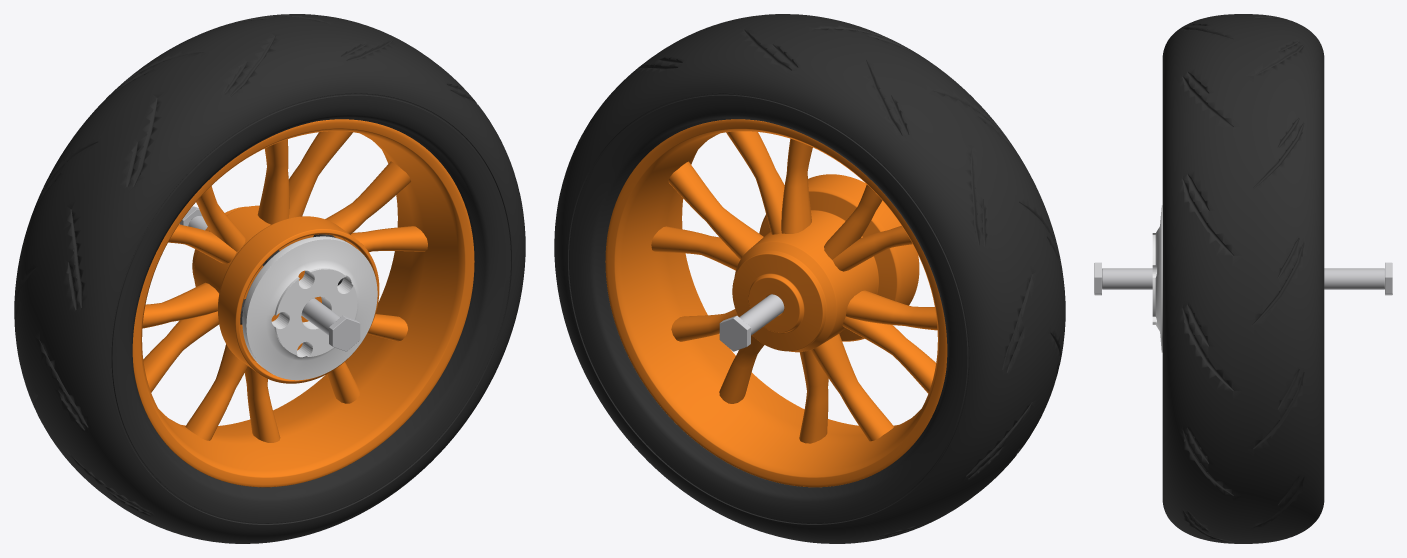
Rendered from bike_superbike__rear_wheel.glb.
3 renders of one model, left to right at view 1: azimuth 30°, elevation 25°; view 2: azimuth 150°, elevation 25°; view 3: azimuth 270°, elevation 25°, orthographic. The views are drawn at different scales.
Parts seen in each view (by area): view 1: wheels__rear_wheel__tyre, wheels__rear_wheel__rim, wheels__rear_wheel__cast_spokes, wheels__rear_wheel__sprocket_carrier, wheels__rear_wheel__hub, wheels__rear_wheel__axle; view 2: wheels__rear_wheel__tyre, wheels__rear_wheel__rim, wheels__rear_wheel__cast_spokes, wheels__rear_wheel__hub, wheels__rear_wheel__axle; view 3: wheels__rear_wheel__tyre, wheels__rear_wheel__axle, wheels__rear_wheel__sprocket_carrier.
Part boxes in pixels (<box>): wheels__rear_wheel__tyre: <box>14,14,525,543</box>; wheels__rear_wheel__rim: <box>132,119,474,487</box>; wheels__rear_wheel__cast_spokes: <box>142,131,427,442</box>; wheels__rear_wheel__sprocket_carrier: <box>242,236,377,380</box>; wheels__rear_wheel__hub: <box>192,205,379,383</box>; wheels__rear_wheel__axle: <box>179,206,360,351</box>; wheels__rear_wheel__tyre: <box>554,14,1065,543</box>; wheels__rear_wheel__rim: <box>605,119,947,487</box>; wheels__rear_wheel__cast_spokes: <box>651,131,937,443</box>; wheels__rear_wheel__hub: <box>732,174,919,352</box>; wheels__rear_wheel__axle: <box>719,294,784,351</box>; wheels__rear_wheel__tyre: <box>1162,14,1324,543</box>; wheels__rear_wheel__axle: <box>1094,262,1392,295</box>; wheels__rear_wheel__sprocket_carrier: <box>1152,205,1162,352</box>.
Bounding box in the file's own units: 62.2 × 62.2 × 35.
